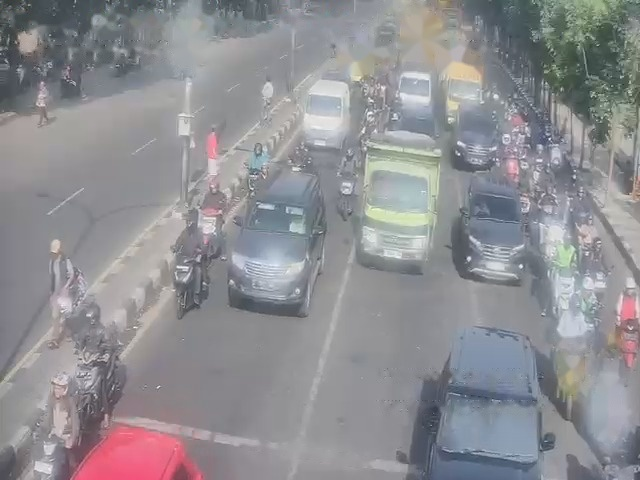Mobil: (444, 329, 541, 479), (230, 154, 319, 305), (455, 164, 527, 281), (303, 75, 347, 148), (456, 94, 499, 165), (394, 69, 433, 114)
Motor: (176, 254, 200, 313), (545, 224, 570, 279), (560, 338, 579, 396), (581, 270, 601, 325), (77, 358, 98, 409), (618, 318, 640, 363), (577, 229, 597, 274), (339, 173, 355, 214), (42, 436, 55, 480), (552, 272, 568, 305), (569, 209, 586, 233), (243, 165, 257, 194), (549, 146, 564, 167), (501, 131, 513, 152), (287, 151, 297, 175), (506, 153, 517, 174), (533, 166, 542, 190), (366, 109, 374, 131), (543, 207, 549, 231)
Truk: (359, 132, 436, 268)
